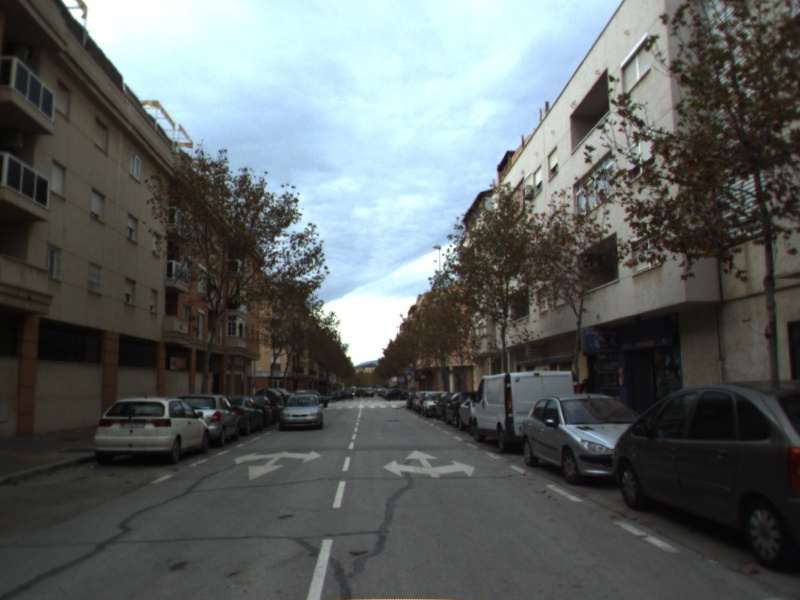STRAIGHT_LEFT_RIGHT: (381, 448, 477, 479)
